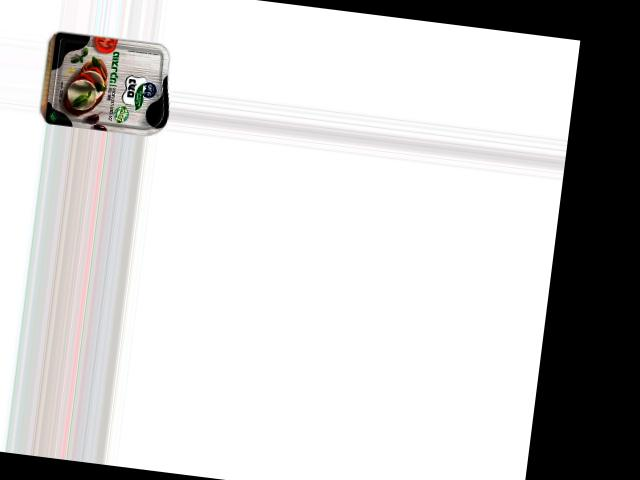cheese: (43, 30, 175, 138)
